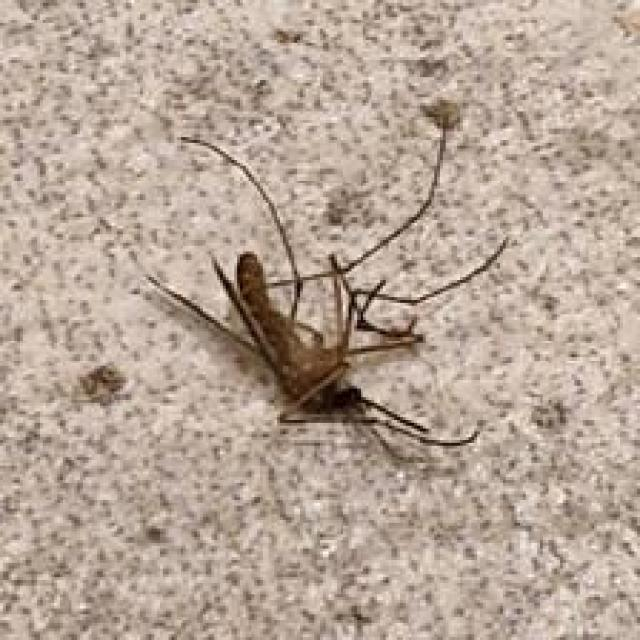Culex: (133, 100, 510, 463)
